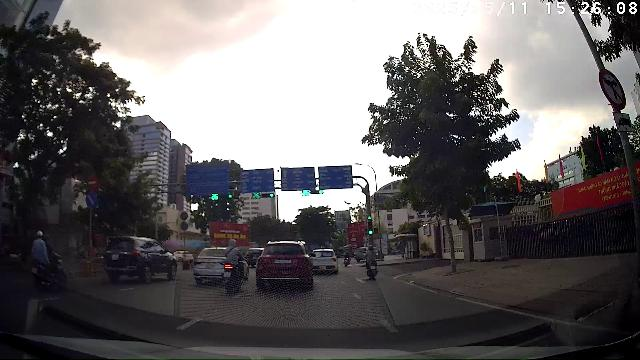137-cam-re-trai-va-re-phai: (599, 67, 627, 109)
